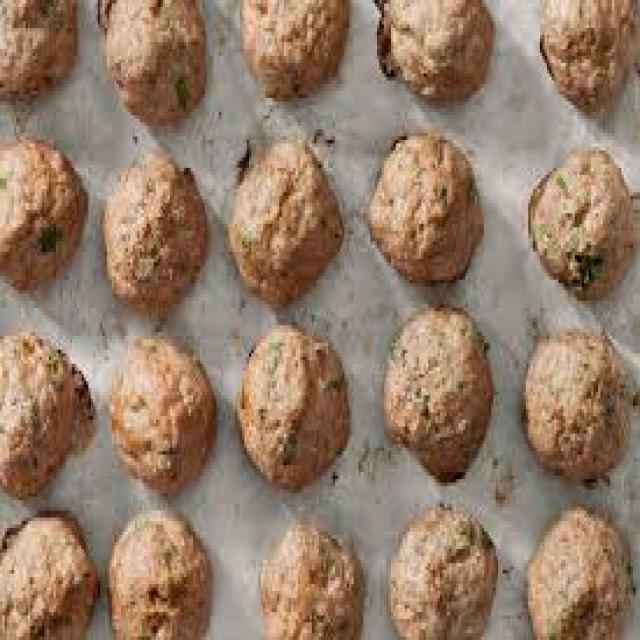Meatball: (212, 136, 354, 308), (515, 306, 640, 494), (375, 296, 497, 486), (357, 117, 488, 289), (505, 140, 639, 307), (231, 327, 360, 493), (91, 146, 214, 317), (103, 335, 217, 500), (380, 498, 506, 640), (0, 323, 96, 504), (517, 500, 640, 640), (99, 506, 221, 640), (249, 514, 372, 640), (0, 126, 88, 301), (371, 0, 503, 110), (0, 500, 101, 640), (230, 0, 356, 112), (100, 0, 210, 126), (525, 0, 640, 108), (0, 0, 87, 113)
